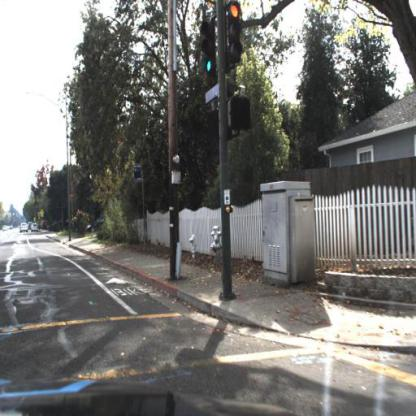car: (86, 215, 116, 233), (20, 223, 29, 233), (31, 224, 38, 233), (3, 226, 8, 231)
